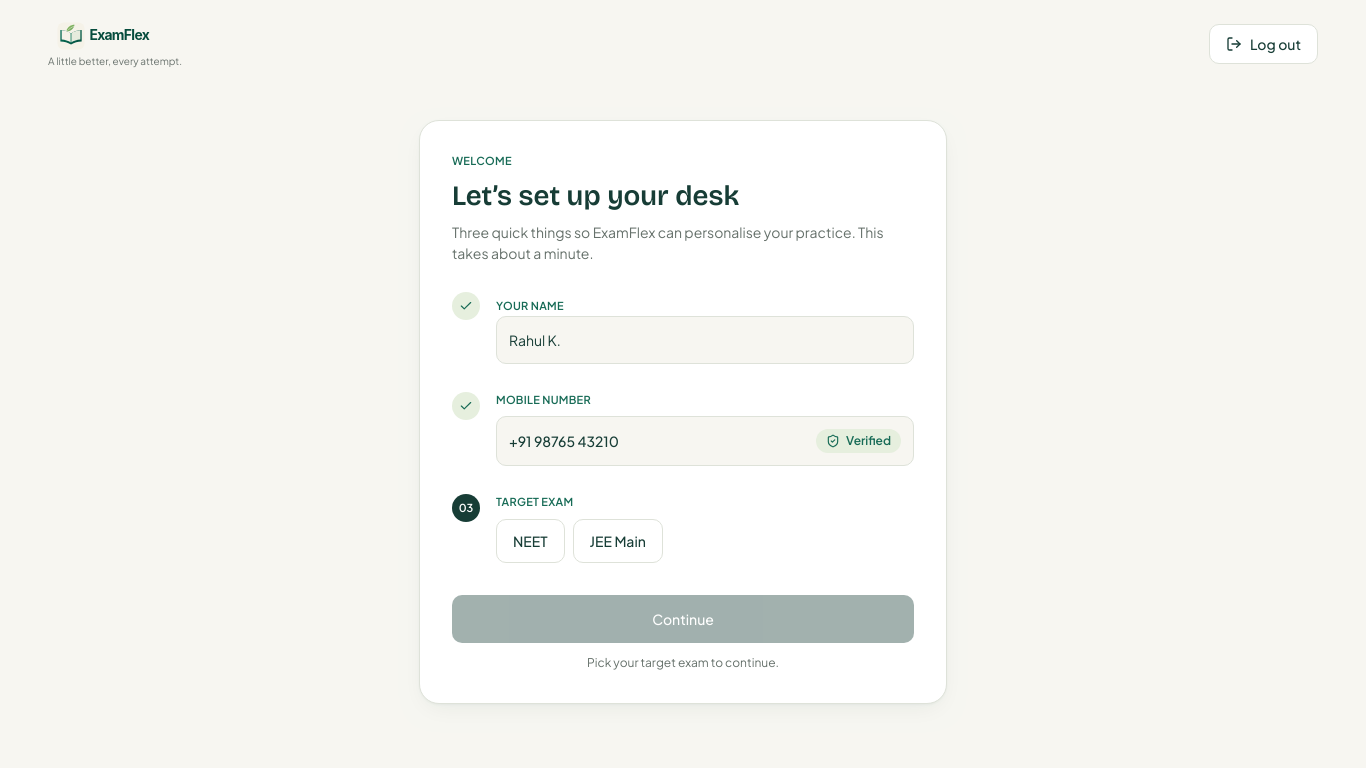
Scenario: OnboardingScreen › name › prefills a Google name that contains a dot, and lets it through
The image size is (1366, 768).
Expected: the field labelled "Your name" holds "Rahul K.", top-left (496, 316), bottom-right (914, 364)
Click the radio button labelled "NEET": (530, 541) top-left (496, 519), bottom-right (565, 563)
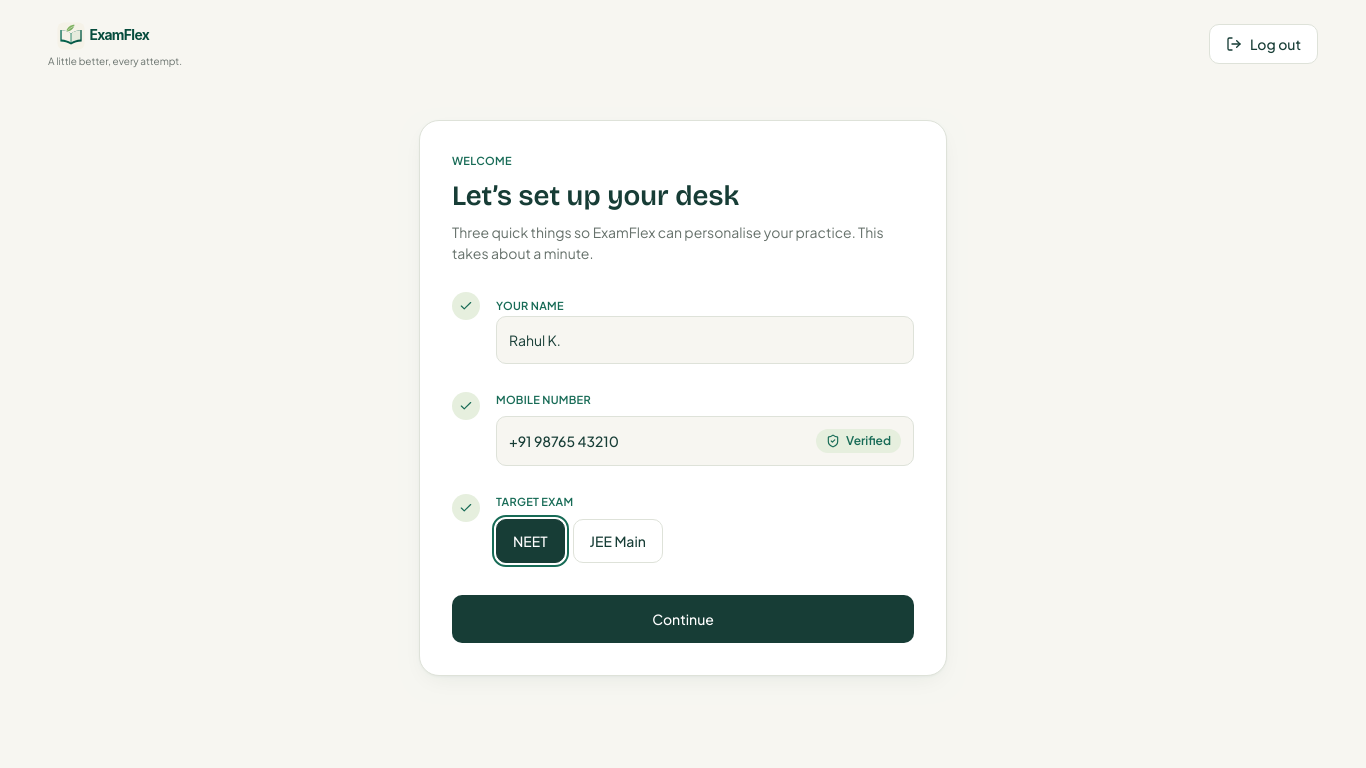
Expected: the button "Continue" is enabled, top-left (452, 595), bottom-right (914, 643)
